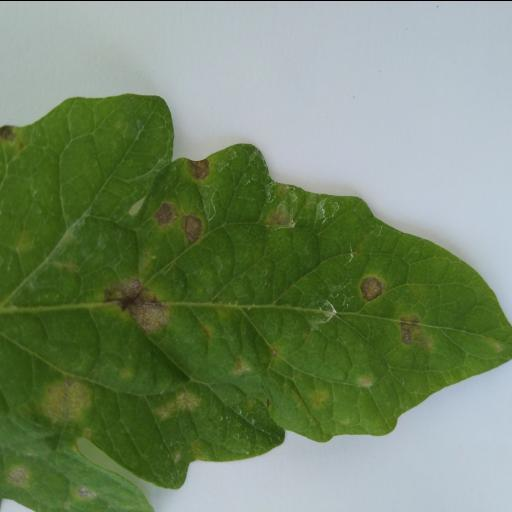Early Blight: (0, 90, 512, 512)
